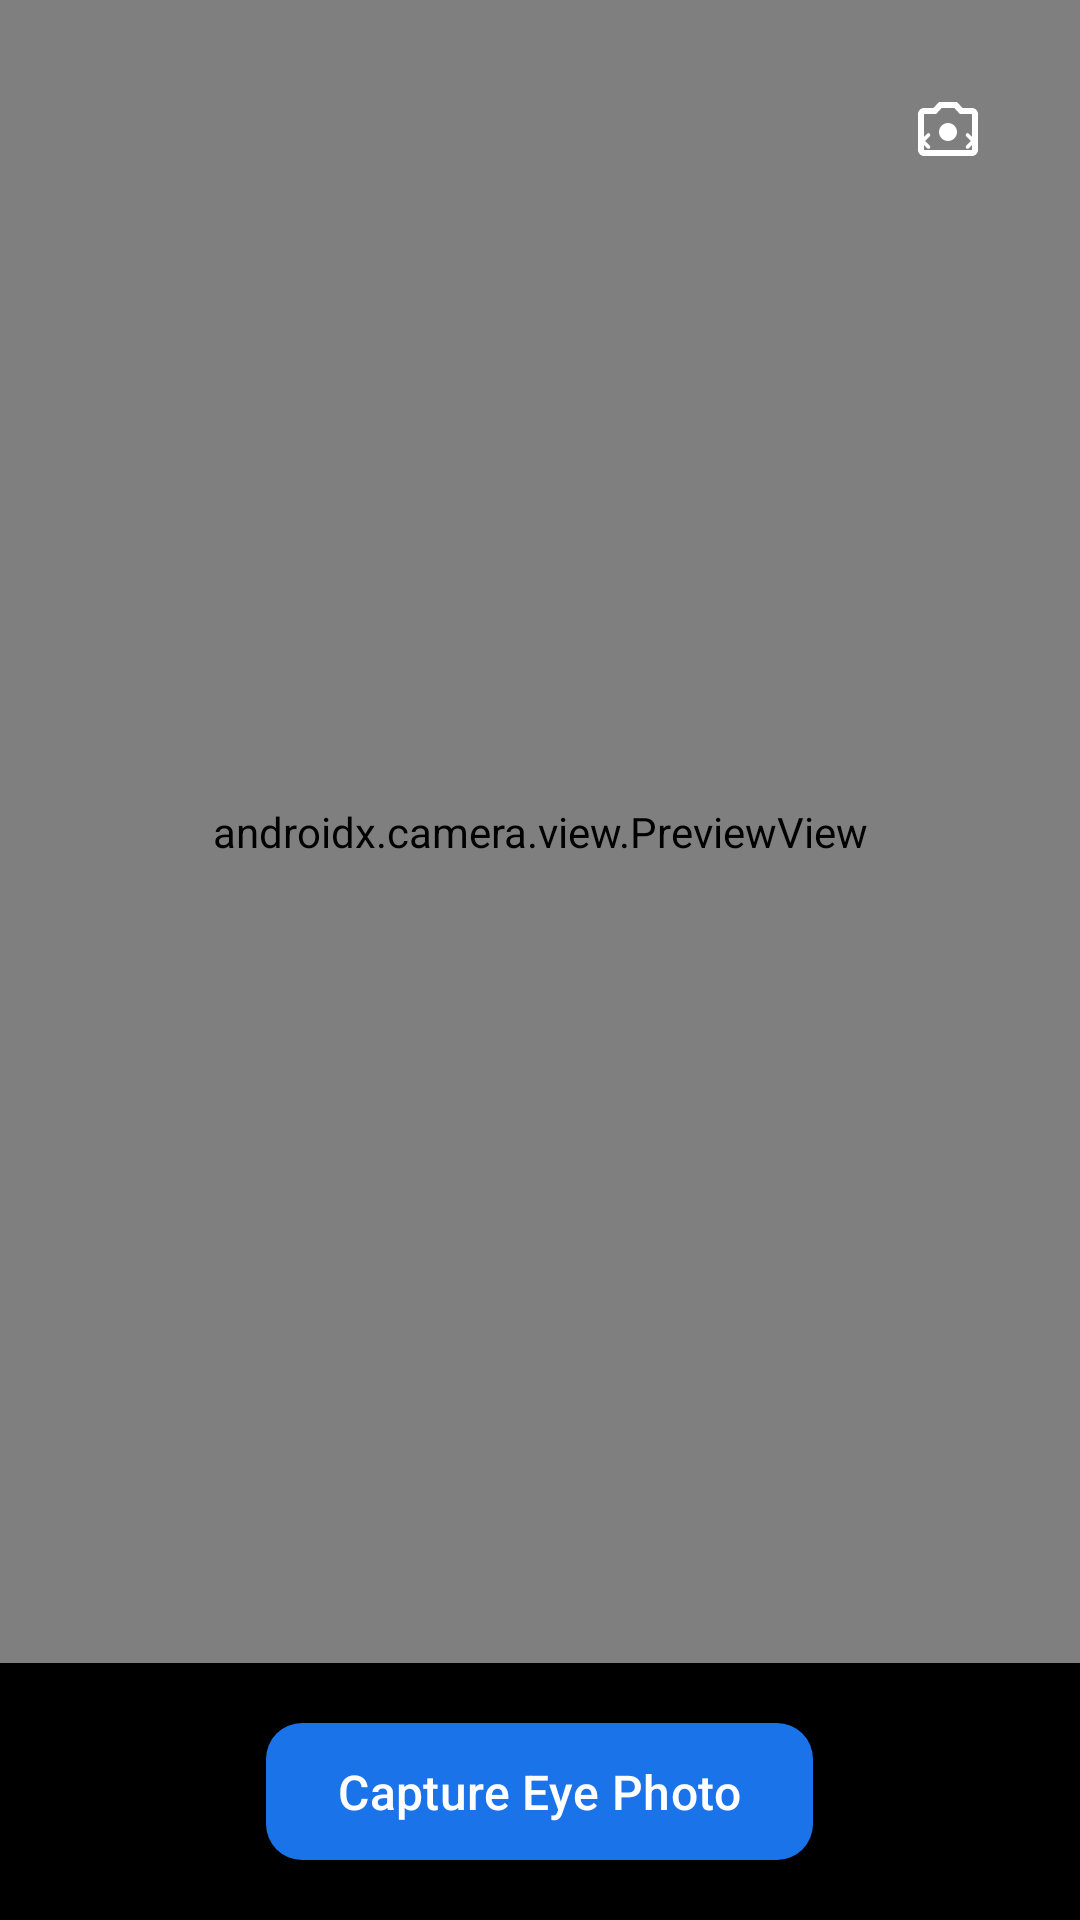

Screen size 1080x1920. Icon name, then its center in pixels as (x=x, y=y):
Flip Camera: (x=948, y=129)
